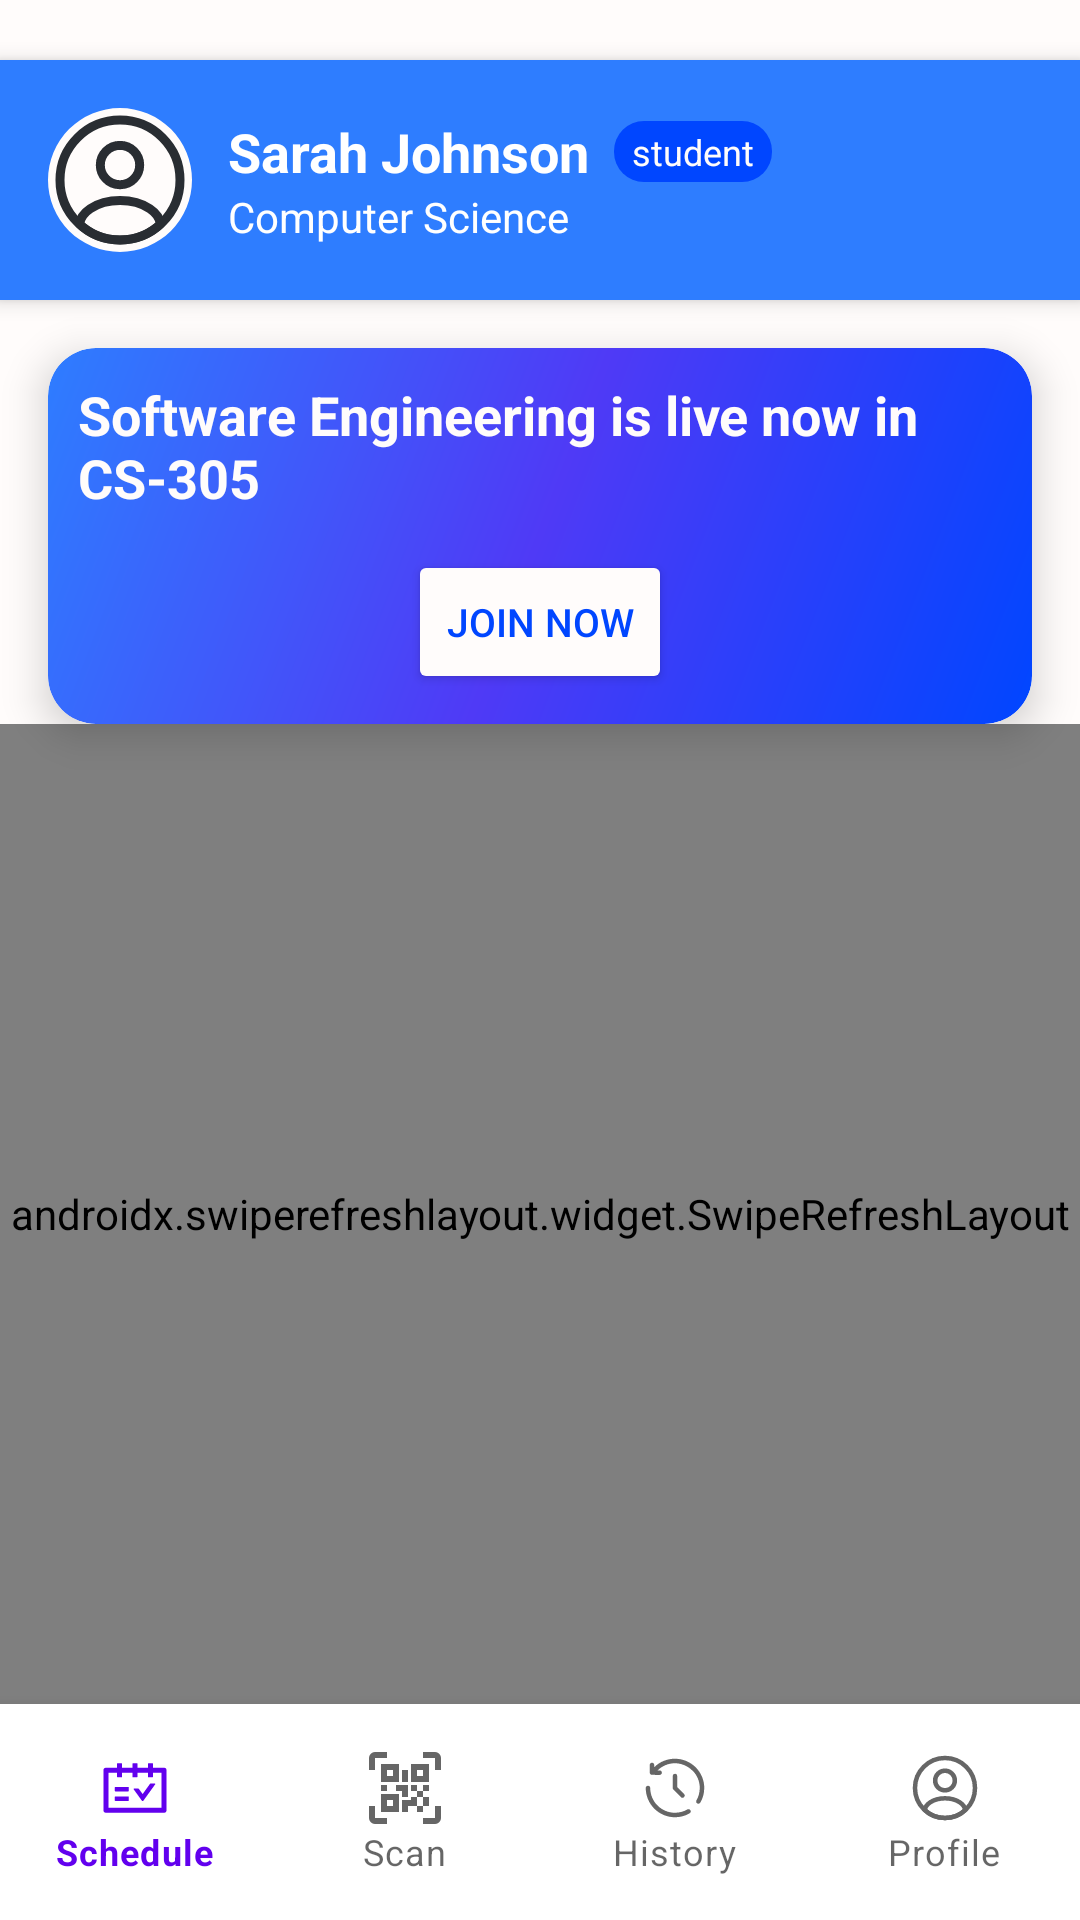

Screen size 1080x1920. Icon name, then its box in pixels as (x1, y1, x2, y2):
Profile Picture: (48, 108, 192, 252)
